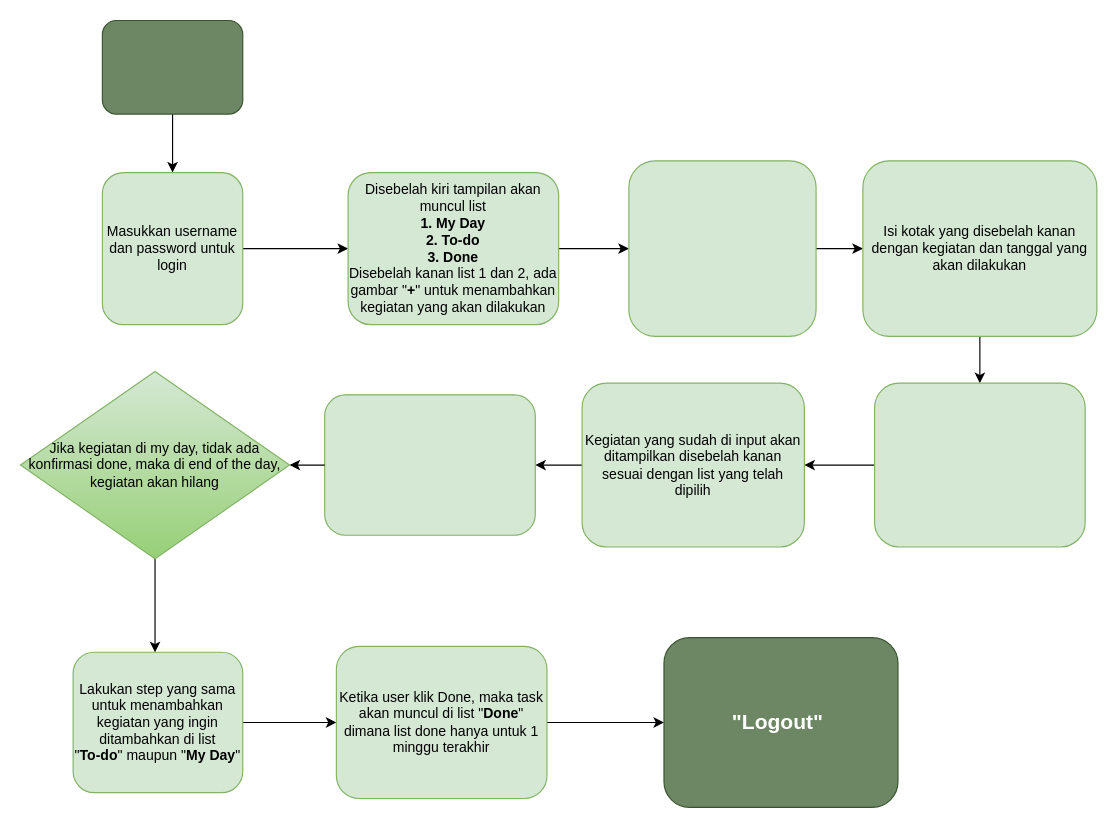
Image size: 1117x828. Some labels were removed from this diagram. Here are the shapes that lost their labels. From the top down, the centre of each, then its label:
[172,66]: "START"
[722,248]: klik " + "
[429,464]: Disamping kegiatan yang telah disubmit, ada gambar " Trash ", dan " Done "
[979,464]: klik " Add "
